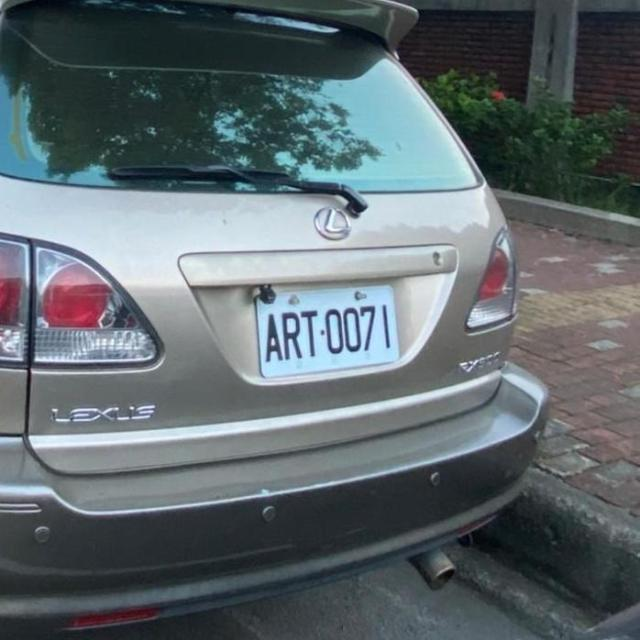W: (242, 275, 409, 383)
